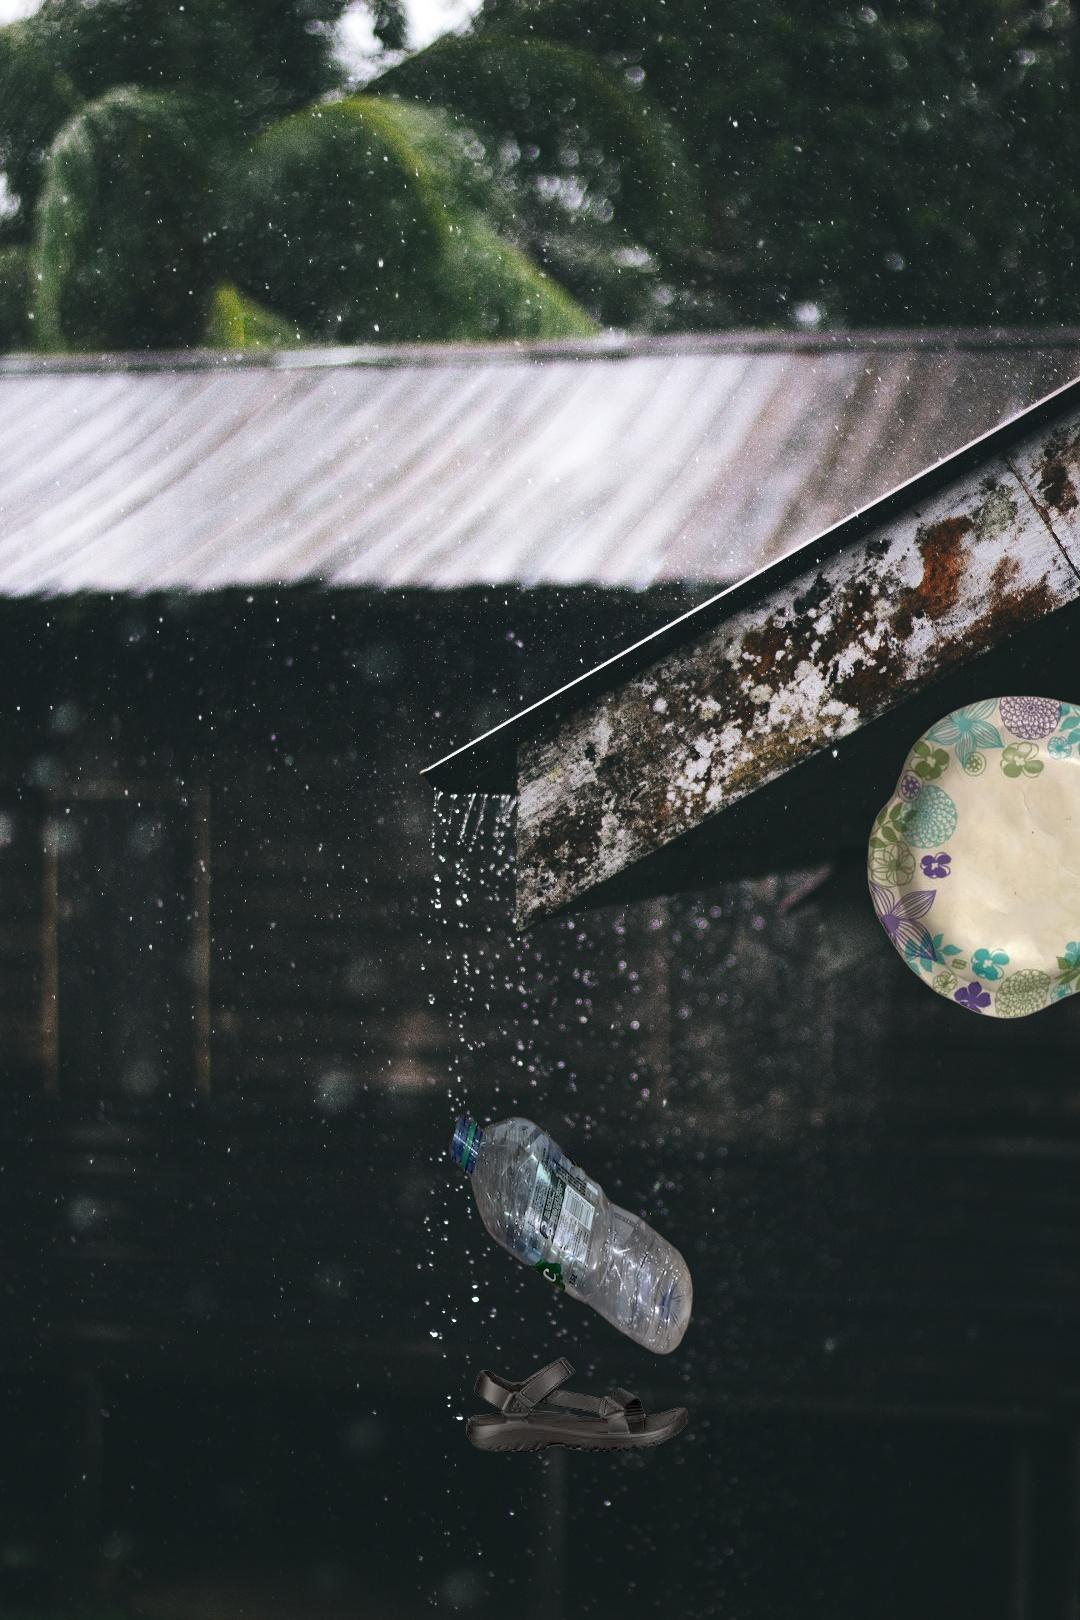paper: (862, 693, 1080, 1022)
plastic-bottles: (444, 1104, 695, 1358)
shoes: (464, 1354, 689, 1455)
